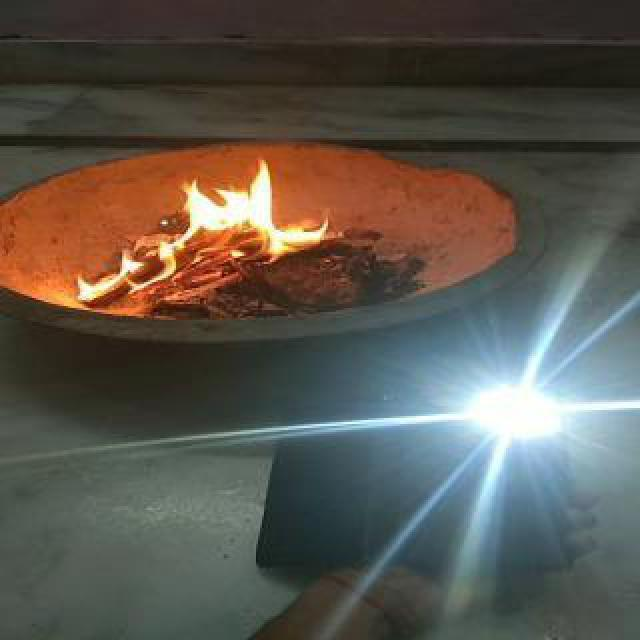Fire: (74, 176, 352, 304)
